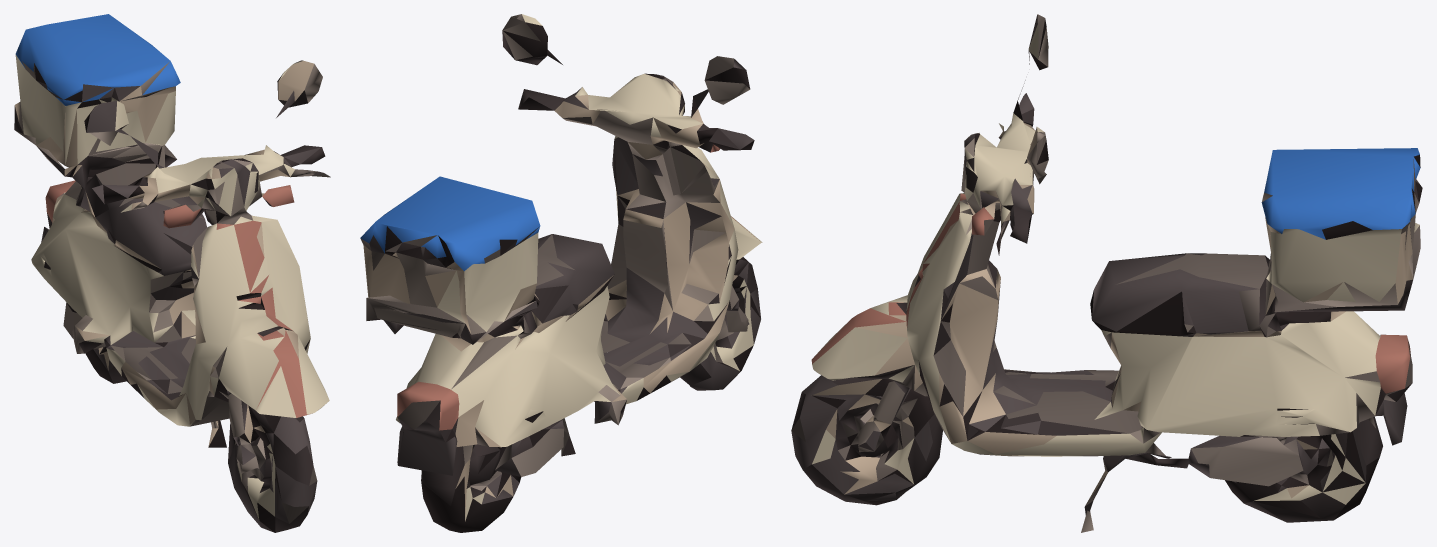
Rendered from scooter-u_NyXmDZ.glb.
The picture shows the model from 3 angles, left to right: view 1: azimuth 30°, elevation 25°; view 2: azimuth 150°, elevation 25°; view 3: azimuth 270°, elevation 25°; orthographic projection. The views are drawn at different scales.
Parts seen in each view (by area): view 1: tripo_node_af24ec72-01de-498e-80d3-414bb4558e0b; view 2: tripo_node_af24ec72-01de-498e-80d3-414bb4558e0b; view 3: tripo_node_af24ec72-01de-498e-80d3-414bb4558e0b.
Part boxes in pixels (x1,y1,x2,y2): tripo_node_af24ec72-01de-498e-80d3-414bb4558e0b: [14, 14, 330, 532]; tripo_node_af24ec72-01de-498e-80d3-414bb4558e0b: [360, 14, 762, 532]; tripo_node_af24ec72-01de-498e-80d3-414bb4558e0b: [791, 14, 1422, 532].
Size of the model in its own units: 0.472 by 0.7521 by 0.9773.
